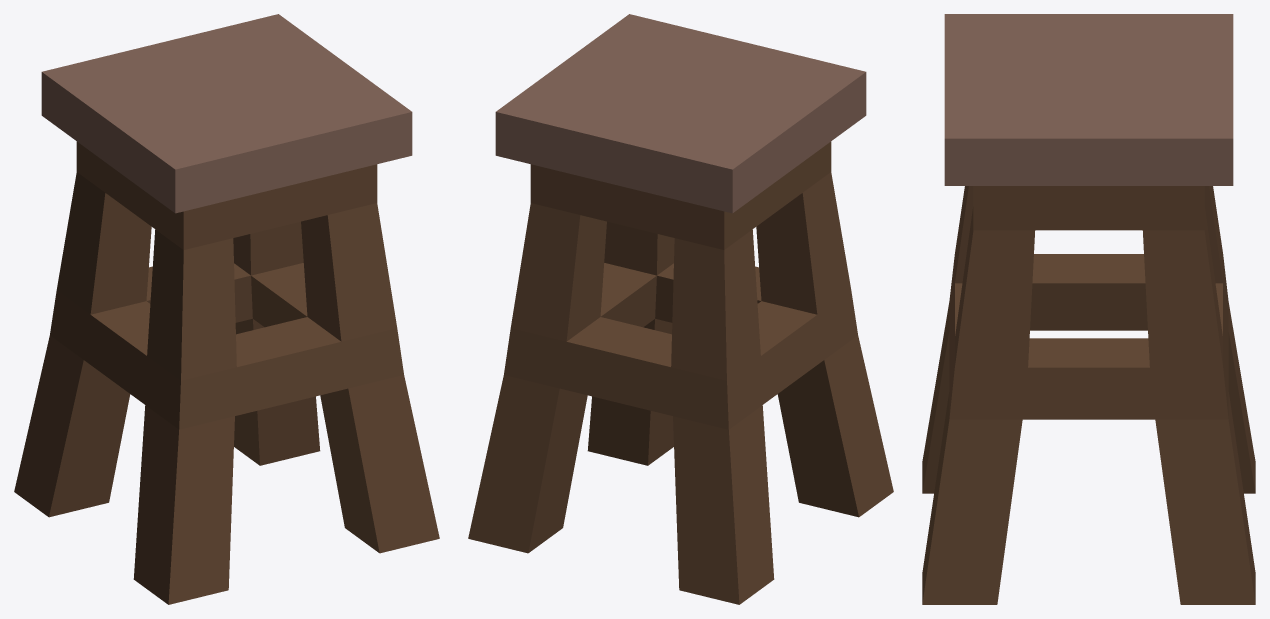
File: prop_stool.glb
3 renders of one model, left to right at view 1: azimuth 30°, elevation 25°; view 2: azimuth 150°, elevation 25°; view 3: azimuth 270°, elevation 25°, orthographic. The views are drawn at different scales.
Parts seen in each view (by area): view 1: Stool_Cube.015; view 2: Stool_Cube.015; view 3: Stool_Cube.015.
Part boxes in pixels (box(x1,y1,x2,y2)): Stool_Cube.015: box(14, 14, 439, 604); Stool_Cube.015: box(468, 14, 893, 604); Stool_Cube.015: box(922, 14, 1255, 604).
Bounding box in the file's own units: 0.3663 × 0.5463 × 0.361.
